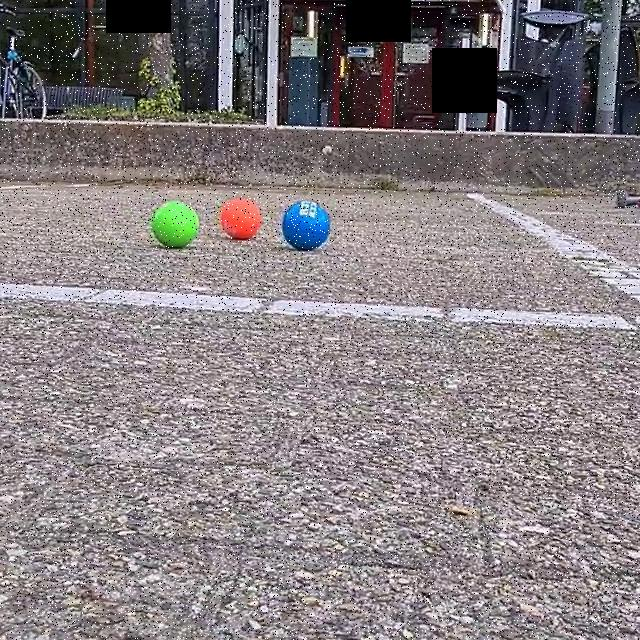ball: (279, 195, 332, 256), (152, 199, 202, 252), (219, 194, 264, 242)
